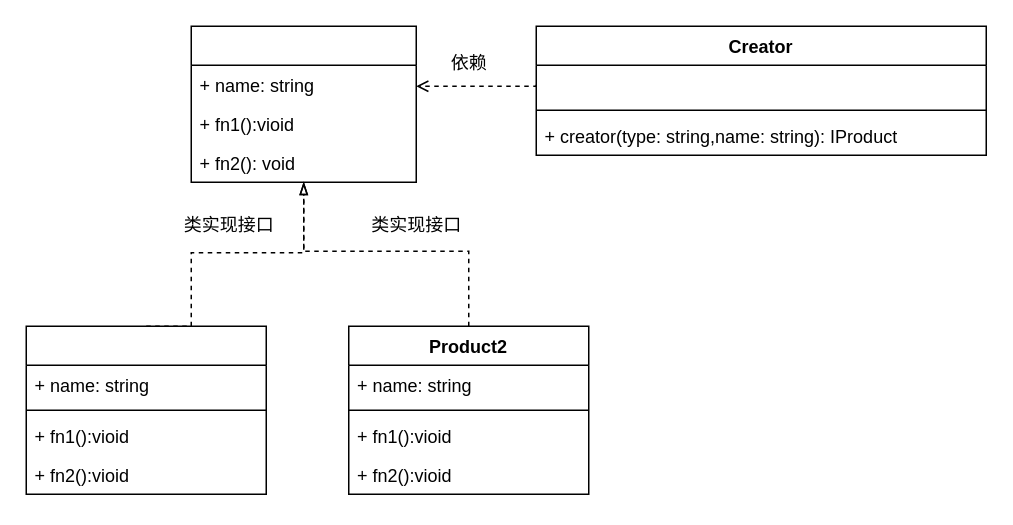
This 1013x525 diagram has some shape labels left out. The box of each missing label's shape, as (x1, y1, x2, y2) in pixels:
IProduct: (190, 25, 416, 182)
Product1: (25, 325, 266, 494)
